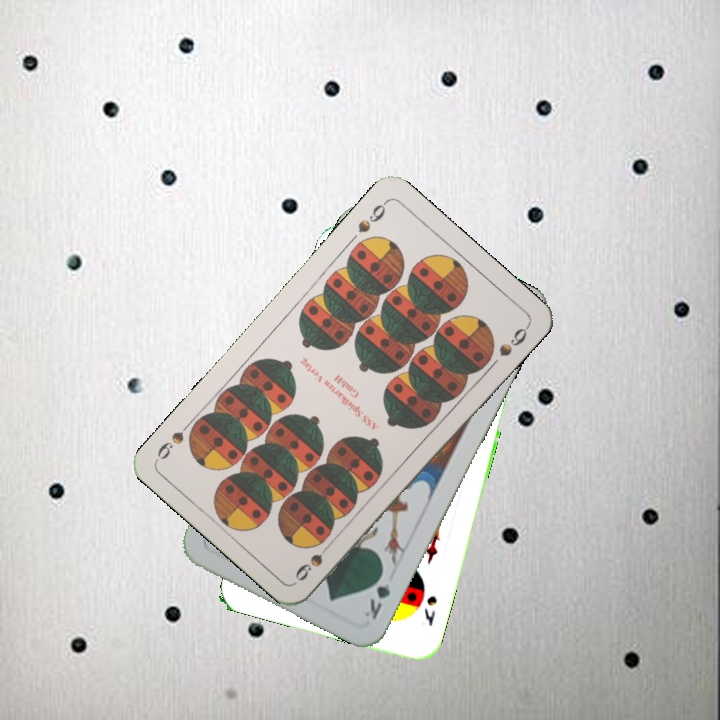GK: (360, 565, 393, 622)
S9: (291, 536, 336, 584), (353, 196, 390, 236)
SK: (420, 591, 440, 629)
